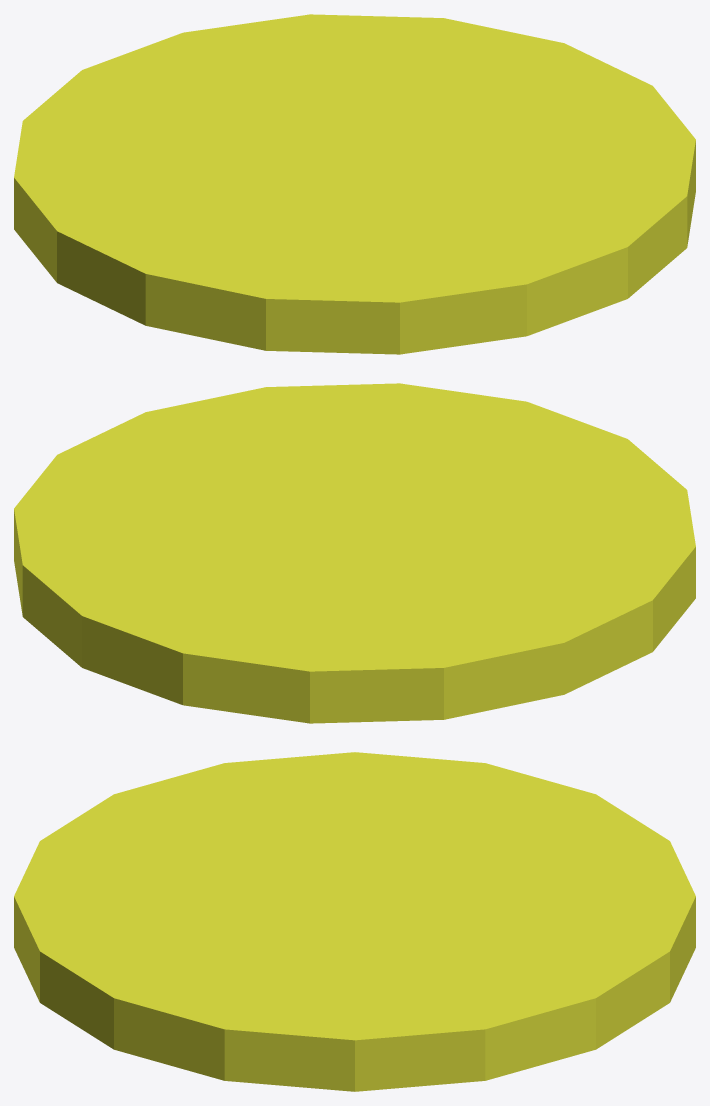
Rendered from button.glb.
The picture shows the model from 3 angles, top to bottom: view 1: azimuth 30°, elevation 25°; view 2: azimuth 150°, elevation 25°; view 3: azimuth 270°, elevation 25°; orthographic projection.
Parts seen in each view (by area): view 1: Cylinder; view 2: Cylinder; view 3: Cylinder.
Part boxes in pixels (x1,y1,x2,y2): Cylinder: [14, 14, 695, 354]; Cylinder: [14, 383, 695, 723]; Cylinder: [14, 752, 695, 1091].
Size of the model in its own units: 1.92 by 0.16 by 1.92.
